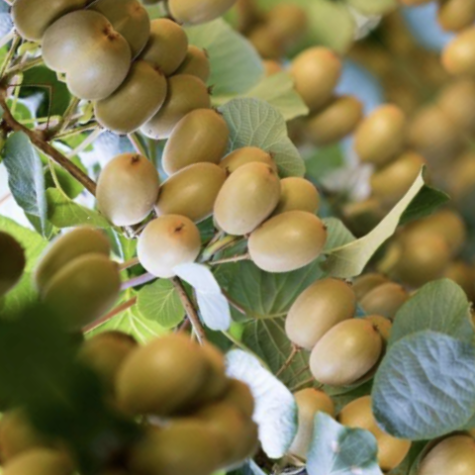kiwi: (218, 181, 346, 306), (68, 31, 196, 156), (259, 257, 376, 372), (72, 131, 182, 241), (191, 151, 301, 260), (293, 300, 401, 405), (147, 0, 255, 48)
